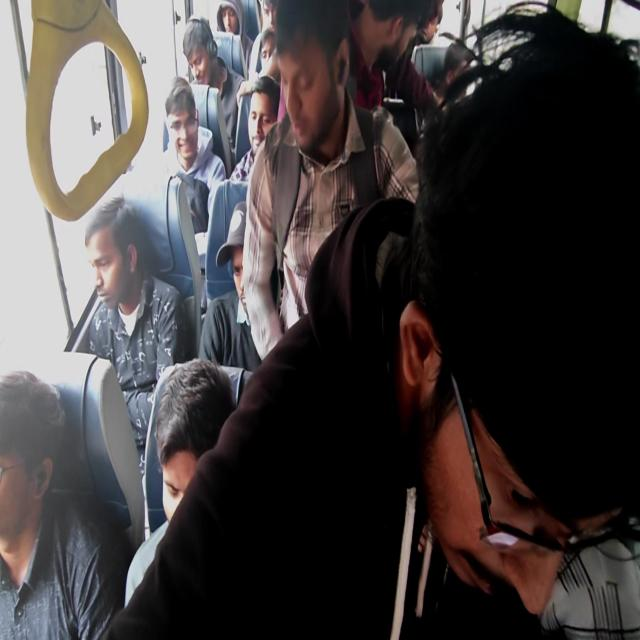person: (418, 104, 639, 640), (294, 22, 398, 187), (0, 381, 67, 614), (151, 379, 245, 530), (370, 0, 431, 81), (92, 208, 132, 330), (225, 226, 270, 315), (151, 93, 205, 148), (446, 38, 488, 108), (180, 21, 223, 88), (244, 83, 285, 151), (421, 0, 439, 39), (252, 52, 276, 76), (255, 2, 278, 27), (204, 6, 231, 19)
